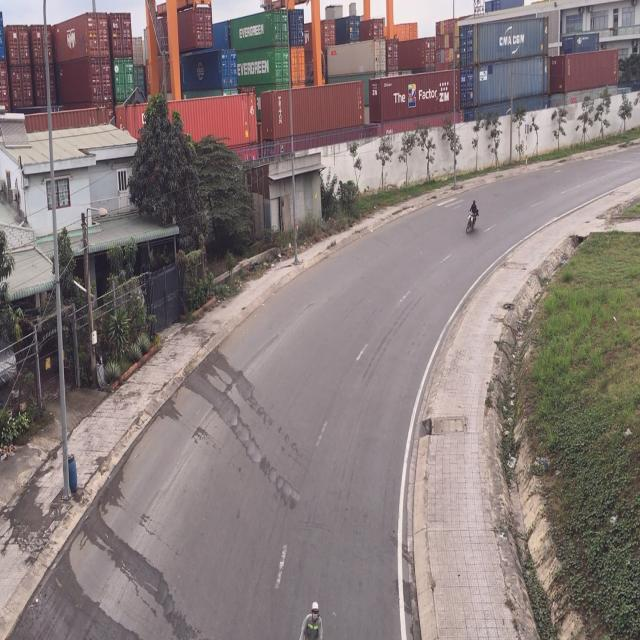motorbike: (298, 601, 326, 640), (464, 198, 479, 238)
